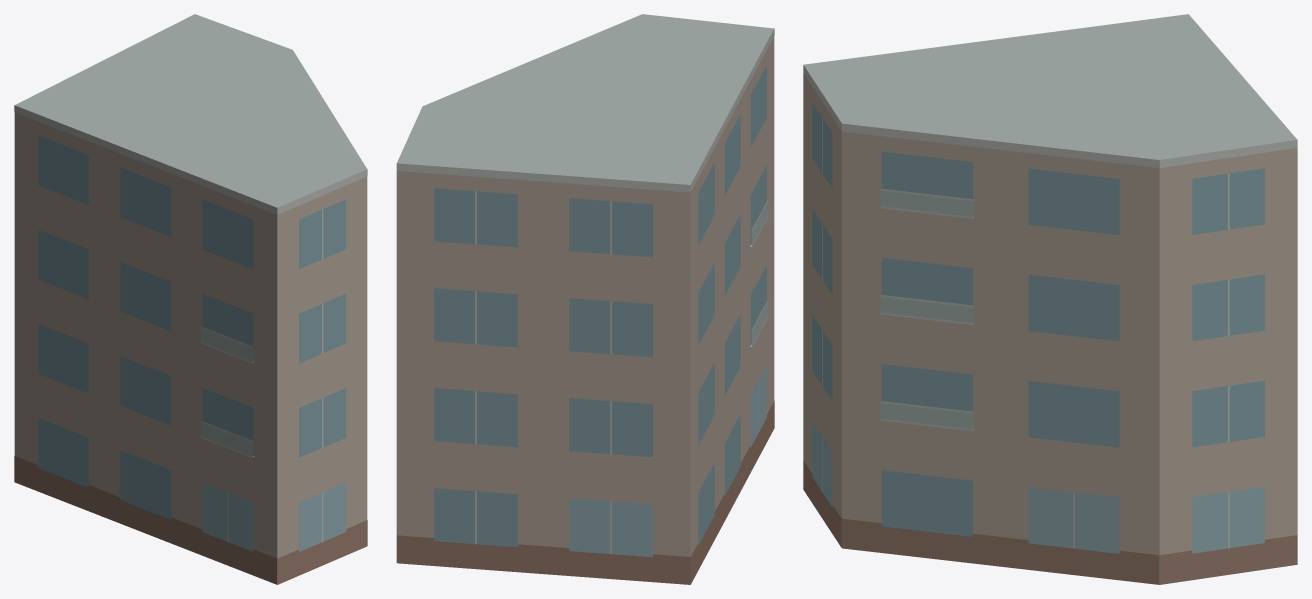
Rendered from survey-upis-32517838.glb.
3 renders of one model, left to right at view 1: azimuth 30°, elevation 25°; view 2: azimuth 150°, elevation 25°; view 3: azimuth 270°, elevation 25°, orthographic. The views are drawn at different scales.
Parts seen in each view (by area): view 1: survey-upis-32517838.tmp; view 2: survey-upis-32517838.tmp; view 3: survey-upis-32517838.tmp.
Boxes of the visible parts, bbox=[...] form: survey-upis-32517838.tmp: bbox=[14, 14, 367, 584]; survey-upis-32517838.tmp: bbox=[396, 14, 774, 584]; survey-upis-32517838.tmp: bbox=[803, 14, 1297, 584].
Bounding box in the file's own units: 9.52 × 12.9 × 13.61.
